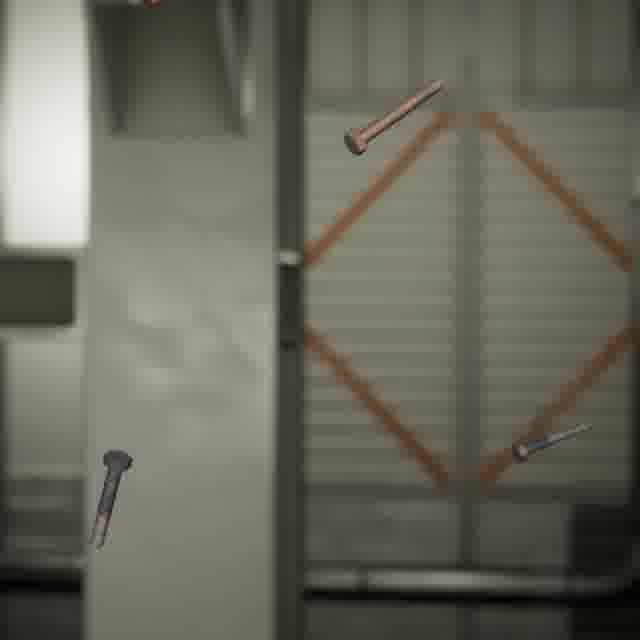bolt: (339, 73, 448, 160), (84, 444, 137, 552), (506, 417, 598, 466)
